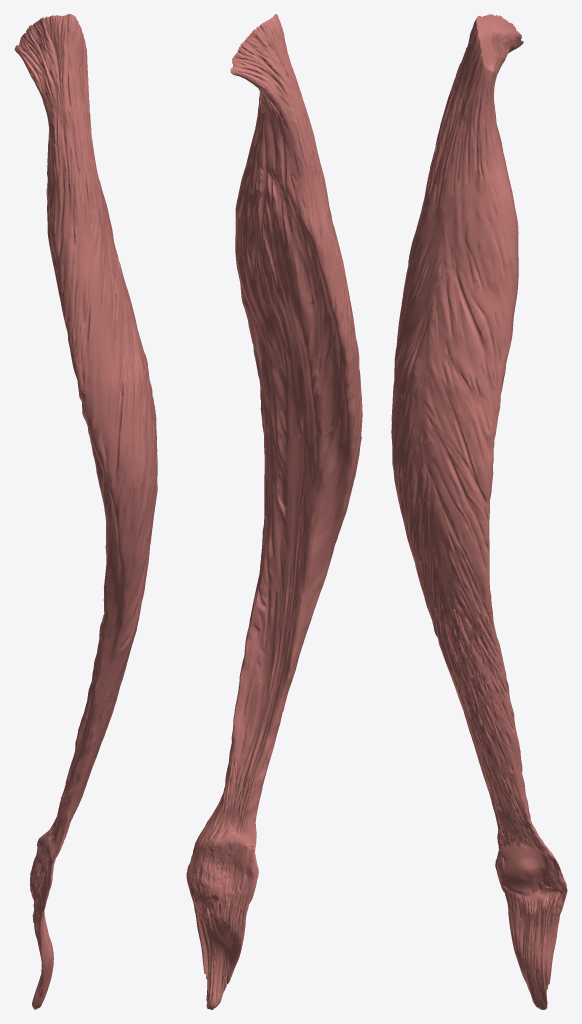
File: fma38928-fj1433.glb
3 renders of one model, left to right at view 1: azimuth 90°, elevation 25°; view 2: azimuth 150°, elevation 25°; view 3: azimuth 330°, elevation 25°, orthographic. The views are drawn at different scales.
Visible parts, largest first — view 1: FMA38928_FJ1433; view 2: FMA38928_FJ1433; view 3: FMA38928_FJ1433.
Boxes of the visible parts, left/top/right/bottom form: FMA38928_FJ1433: left=14, top=14, right=157, bottom=1009; FMA38928_FJ1433: left=186, top=14, right=362, bottom=1009; FMA38928_FJ1433: left=391, top=14, right=567, bottom=1009.
Bounding box in the file's own units: 0.079 × 0.5279 × 0.0673.
